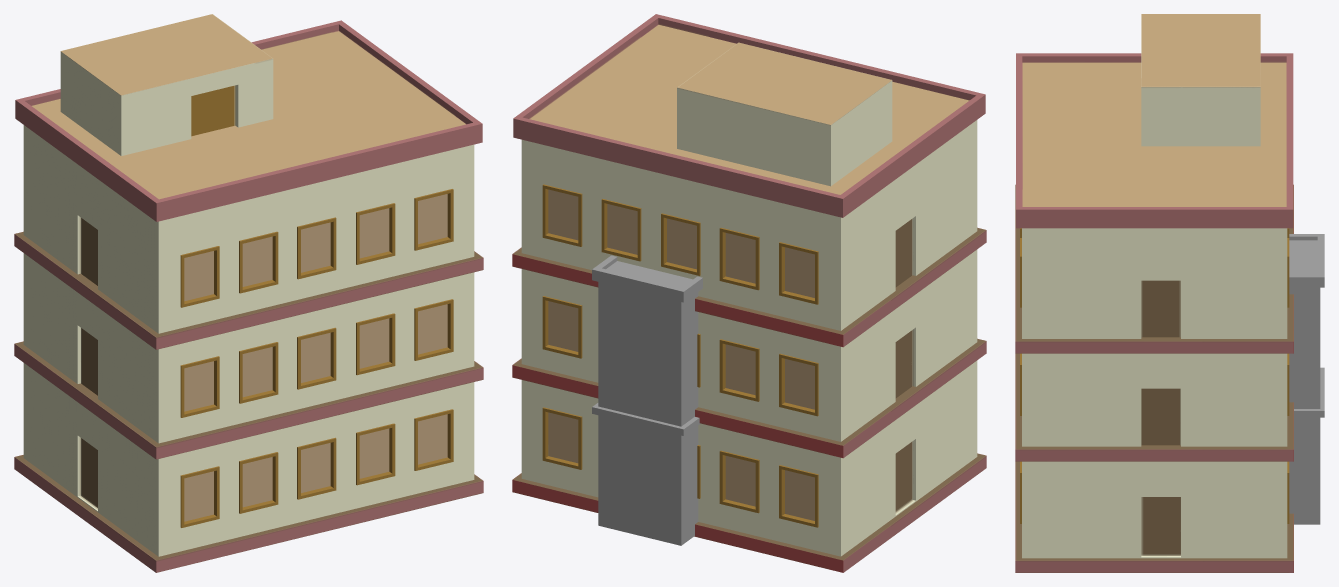
The model's file is Huis_01.fbx.
3 views of the same model, side by side, from view 1: azimuth 30°, elevation 25°; view 2: azimuth 150°, elevation 25°; view 3: azimuth 270°, elevation 25° (orthographic). The views are drawn at different scales.
Parts seen in each view (by area): view 1: Huis_01, Top_01, Mid_01, Mid_02, Bot_01, Raam_02, Raam_011, Raam_013, Raam_06, Raam_09, Raam_014, Raam_015 (+8 smaller); view 2: Huis_01, Top_01, House_03, Mid_01, Bot_01, Mid_02, Top_03, Mid_04, Raam_027, Raam_019, Raam_022, Raam_025 (+7 smaller); view 3: Huis_01, Top_01, House_03, Mid_01, Mid_02, Bot_01, Top_03, Mid_04.
Boxes of the visible parts, x1,y1,x2,y2 form: Huis_01: [23, 14, 474, 556]; Top_01: [15, 20, 482, 221]; Mid_01: [14, 341, 483, 459]; Mid_02: [14, 231, 483, 349]; Bot_01: [14, 455, 483, 572]; Raam_02: [239, 231, 278, 293]; Raam_011: [180, 466, 219, 527]; Raam_013: [297, 437, 336, 499]; Raam_06: [180, 356, 219, 417]; Raam_09: [356, 313, 395, 375]; Raam_014: [356, 423, 395, 485]; Raam_015: [414, 409, 453, 470]; Huis_01: [521, 42, 977, 556]; Top_01: [513, 14, 985, 217]; House_03: [598, 282, 698, 545]; Mid_01: [512, 338, 986, 458]; Bot_01: [512, 453, 986, 572]; Mid_02: [512, 227, 986, 347]; Top_03: [592, 255, 702, 302]; Mid_04: [592, 403, 700, 435]; Raam_027: [719, 450, 759, 513]; Raam_019: [601, 199, 641, 261]; Raam_022: [719, 339, 759, 401]; Raam_025: [542, 296, 582, 358]; Huis_01: [1022, 14, 1287, 558]; Top_01: [1016, 53, 1293, 228]; House_03: [1289, 287, 1320, 524]; Mid_01: [1015, 353, 1293, 461]; Mid_02: [1015, 184, 1293, 353]; Bot_01: [1015, 461, 1293, 572]; Top_03: [1289, 234, 1324, 287]; Mid_04: [1294, 367, 1324, 417].
Size of the model in its own units: 0.028 by 0.0346 by 0.0233.
